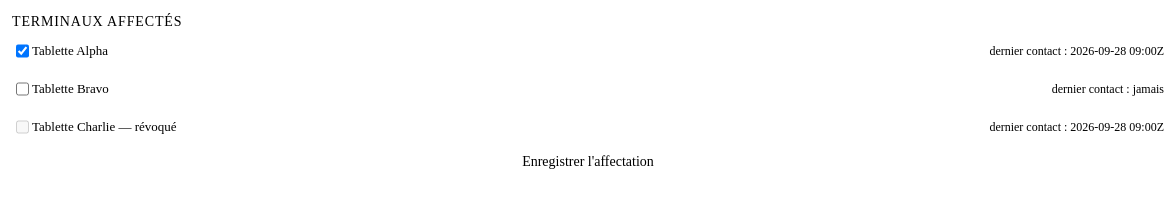
Test case: shows the server's refusal
Click the button "Enregistrer l'affectation". click: (588, 162)
box: [12,146,1164,178]
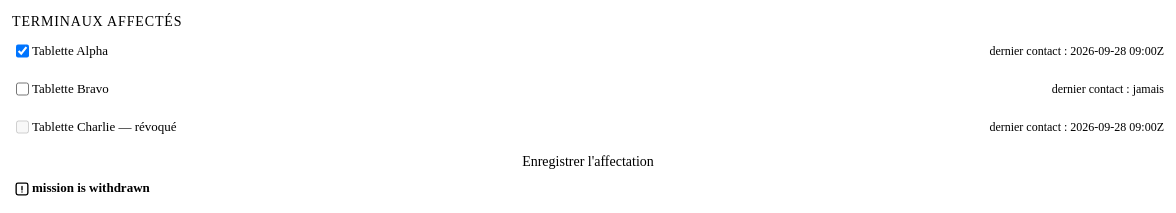
Now the message reads "mission is withdrawn", box [32,180,150,195]
